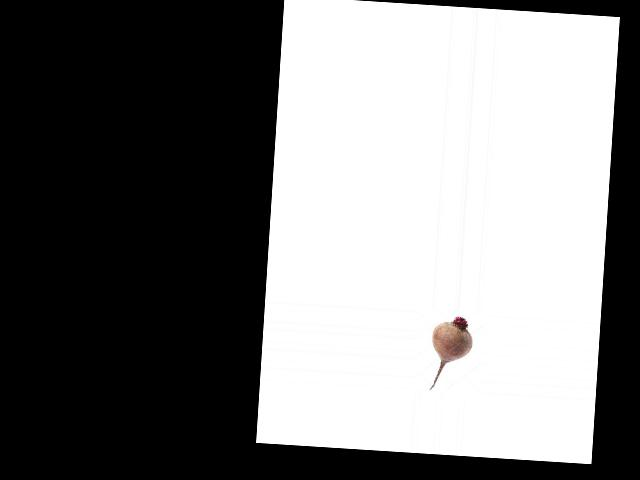beet: (429, 315, 475, 392)
